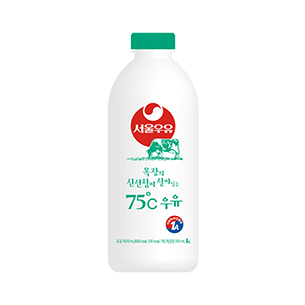milk: (106, 32, 198, 275)
